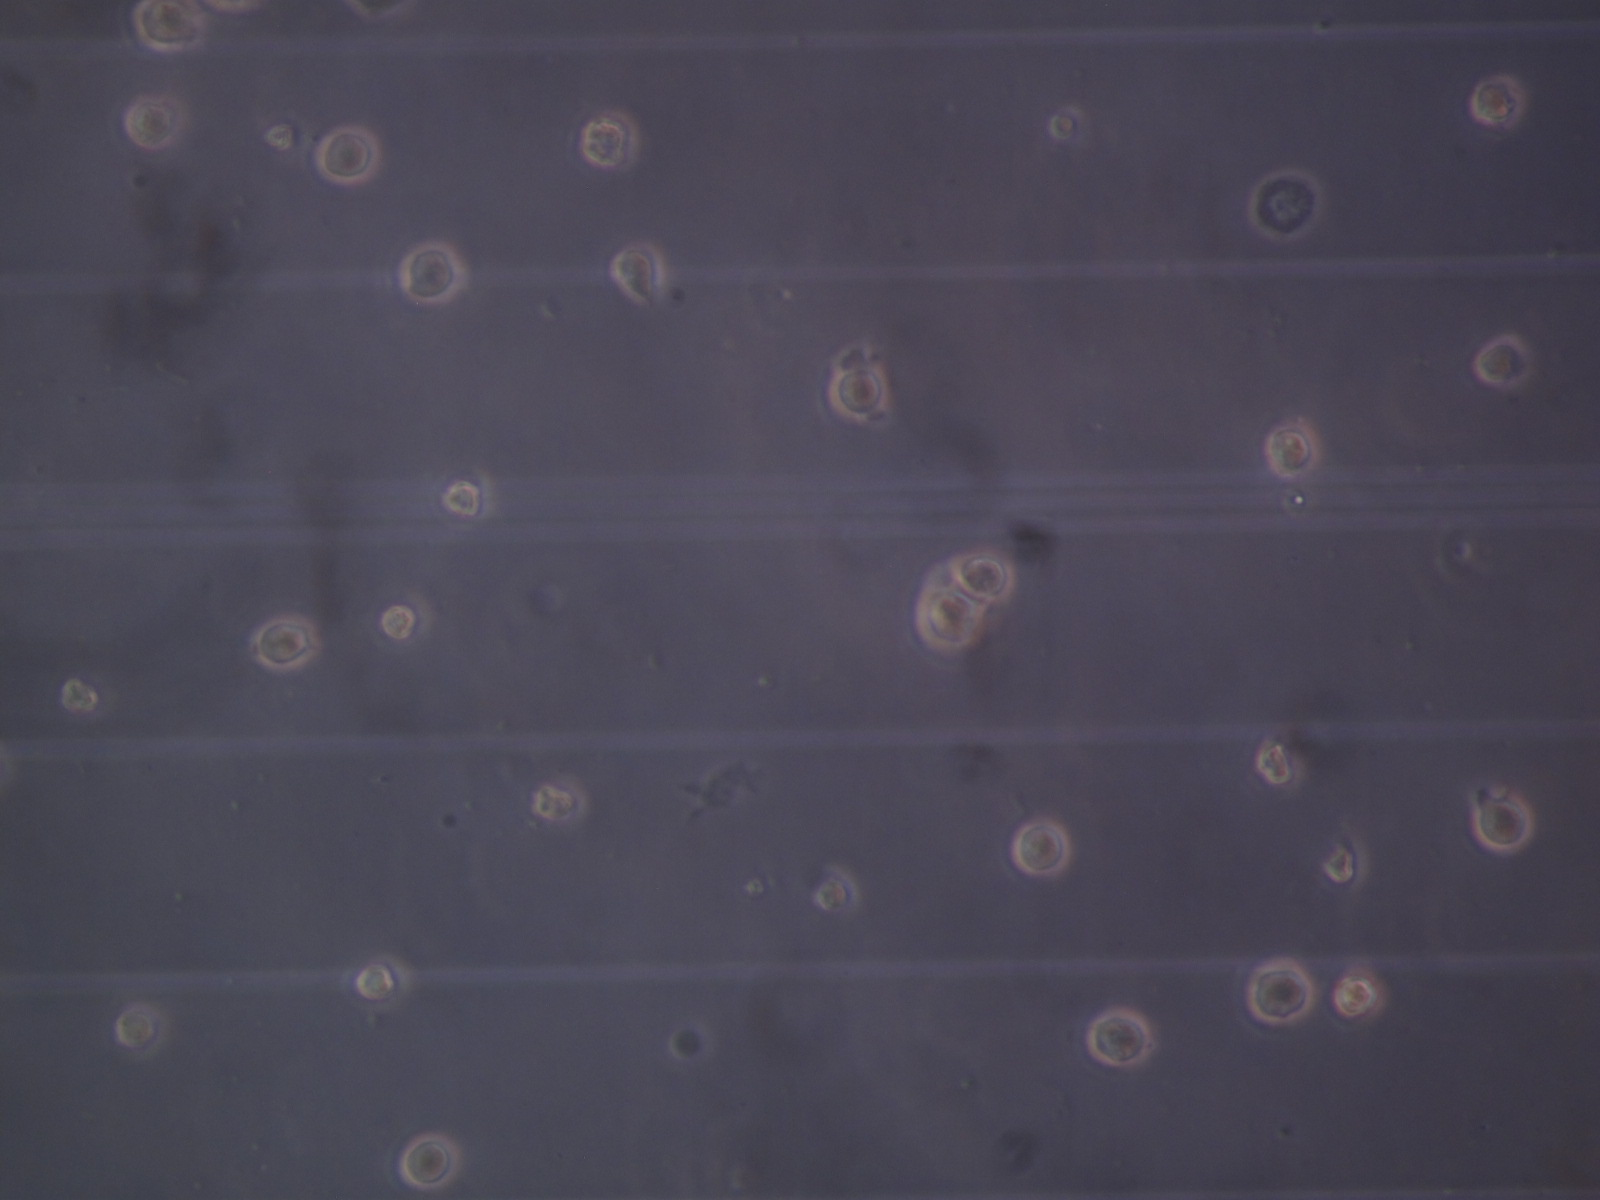hemo: (1249, 169, 1323, 239), (1243, 954, 1313, 1025), (915, 584, 985, 650), (314, 122, 380, 187), (248, 616, 323, 672), (397, 239, 460, 304), (1083, 1007, 1151, 1066), (578, 108, 641, 171), (1473, 794, 1534, 855), (1009, 818, 1070, 879), (134, 1, 207, 50), (398, 1132, 462, 1187), (951, 550, 1013, 606), (609, 245, 665, 306), (438, 466, 494, 527), (123, 95, 183, 149), (1333, 962, 1385, 1024), (532, 775, 590, 829), (1322, 826, 1368, 892), (357, 954, 408, 1013), (1471, 332, 1528, 384), (57, 666, 113, 718), (828, 368, 886, 420), (380, 589, 432, 645), (1266, 425, 1322, 476), (115, 1001, 165, 1058), (1470, 76, 1523, 126), (1256, 735, 1301, 792), (815, 865, 860, 916), (1047, 105, 1092, 146)
